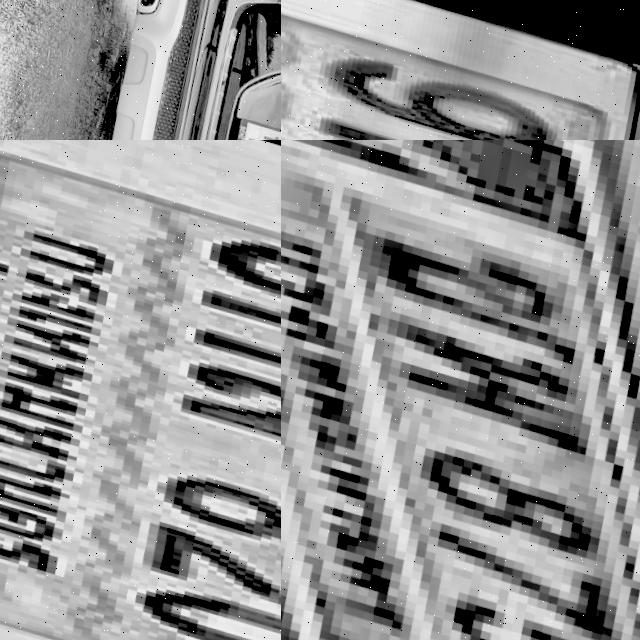license-plate: (281, 140, 640, 640), (0, 140, 281, 640), (281, 0, 640, 140), (206, 106, 281, 140)
